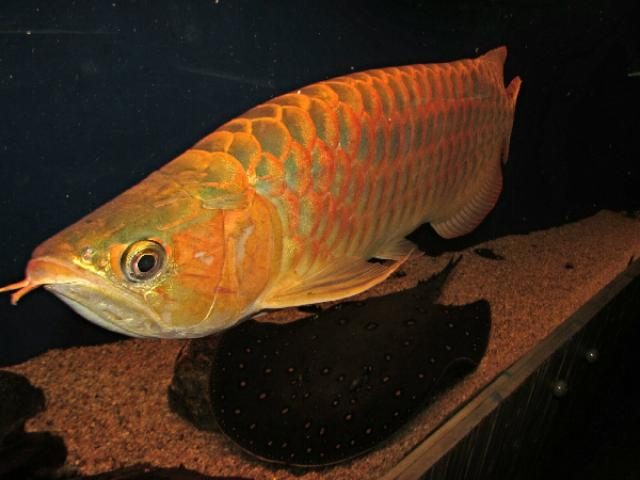Mulut: (0, 227, 194, 351)
Sirip Anal: (428, 164, 516, 250)
Sirip Dada: (241, 243, 417, 323)
Sirip Ekor: (489, 70, 543, 170)
Sirip Perut: (362, 226, 440, 282)
Sirip Punggung: (463, 37, 521, 89)
